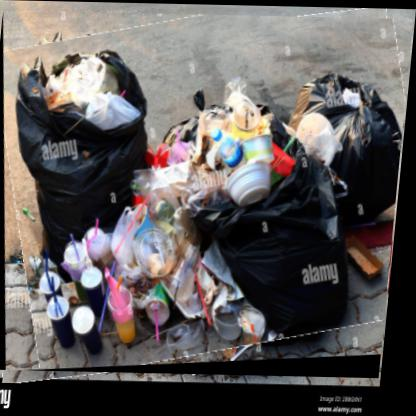Garbage: (1, 11, 415, 378)
